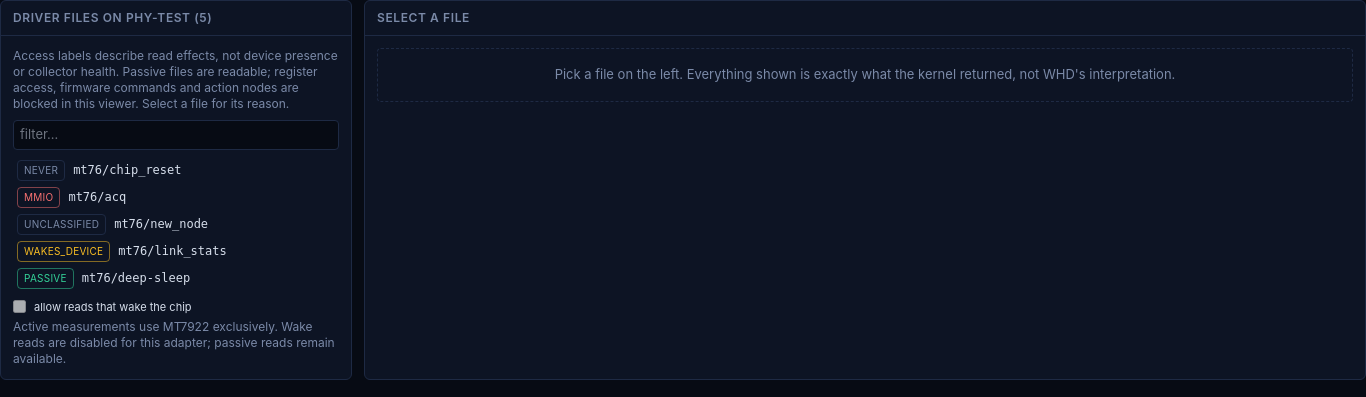
Scenario: raw viewer explains blocked files without reading them and disables wake reads for ineligible adapters
The image size is (1366, 397).
Expected: the text "Access labels describe read effects" is shown, [13,48,338,111]
Expected: the checkbox is disabled, [13,300,26,313]
Click the button "never mt76/chip_reset" at (176, 170), box [13,158,339,182]
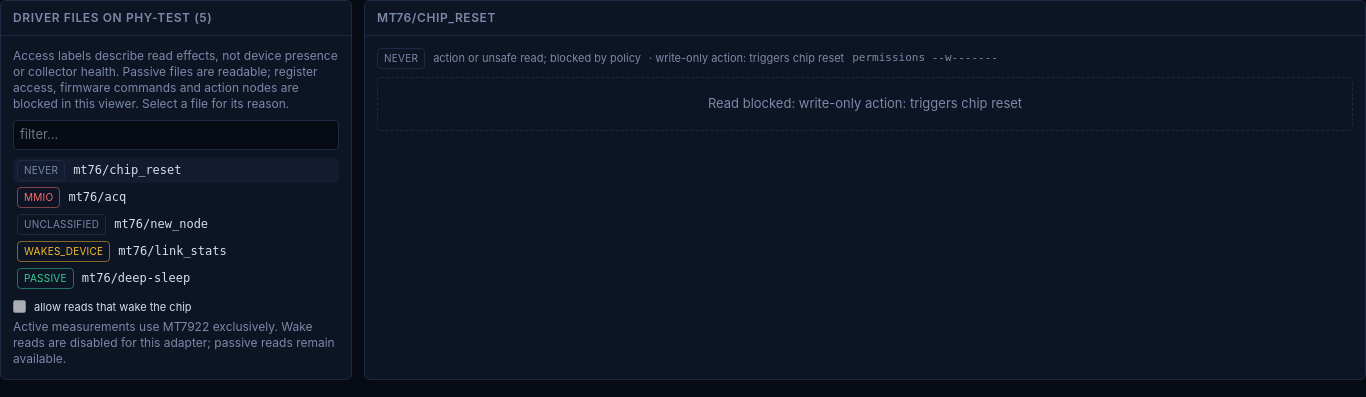
Click the button "mmio mt76/acq" at (39, 197), box [13,184,339,210]
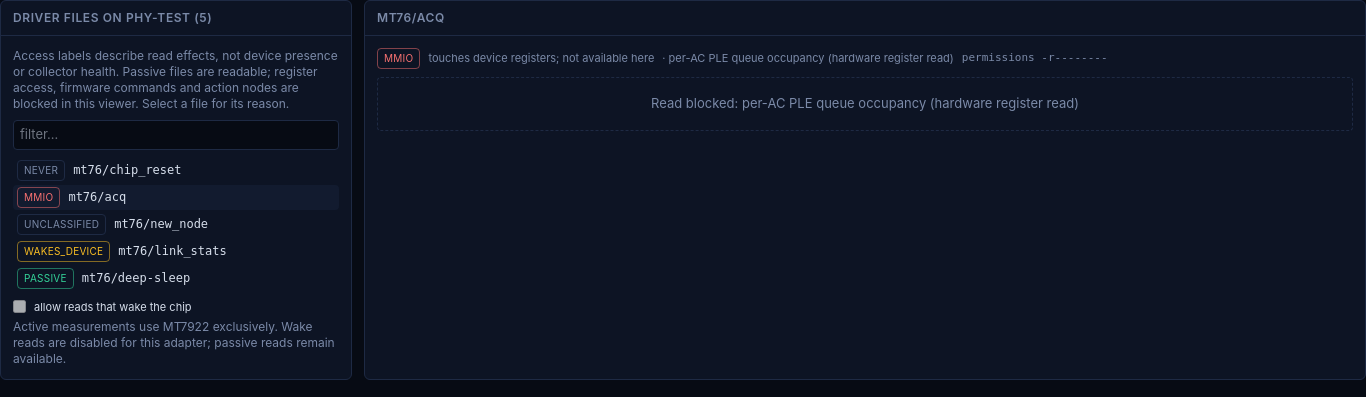
Click the button "unclassified mt76/new_node" at (176, 224), box [13,212,339,236]
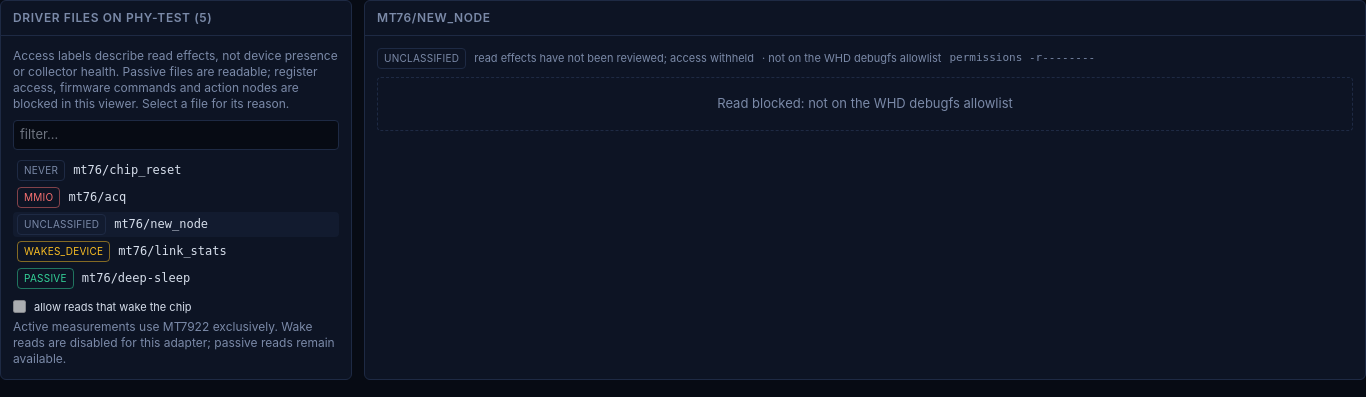
Click the button "wakes_device mt76/link_stats" at (176, 251), box [13,238,339,264]
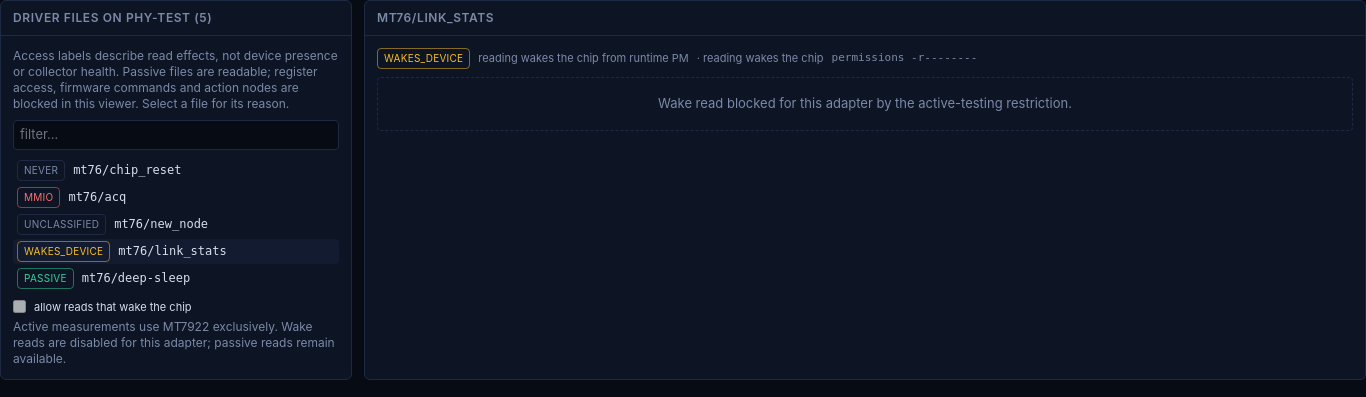
Expected: the text "MT7922 exclusively" is shown, [13,319,335,366]
Click the button "passive mt76/deep-sleep" at (176, 278), box [13,266,339,290]
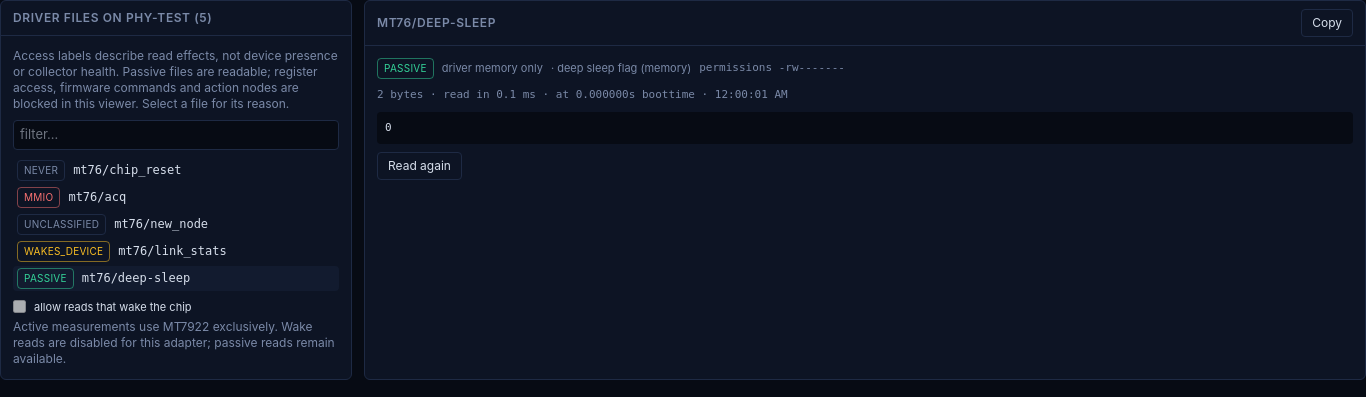
Expected: the text with test id "raw-text" reads "0", [385,120,392,134]
